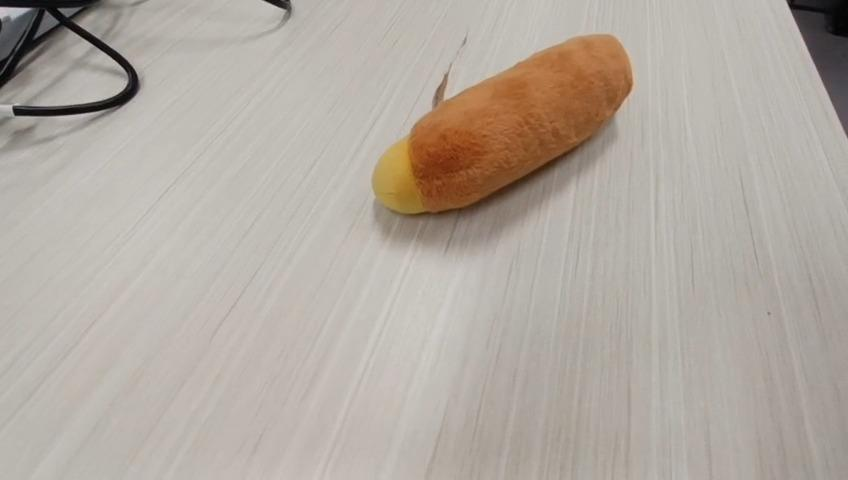hotdog: (370, 32, 634, 215)
